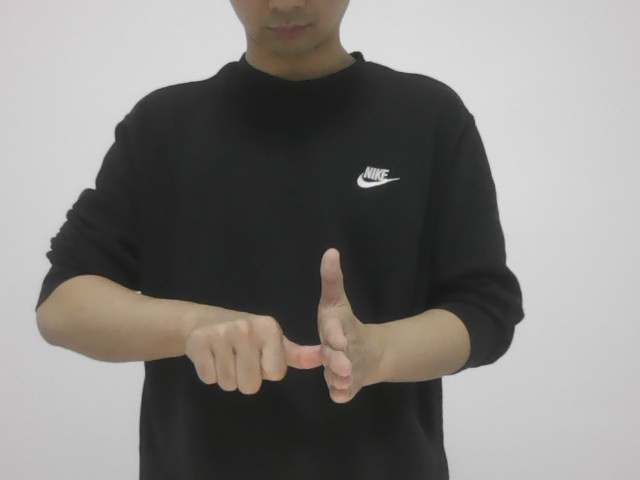time: (173, 247, 373, 413)
